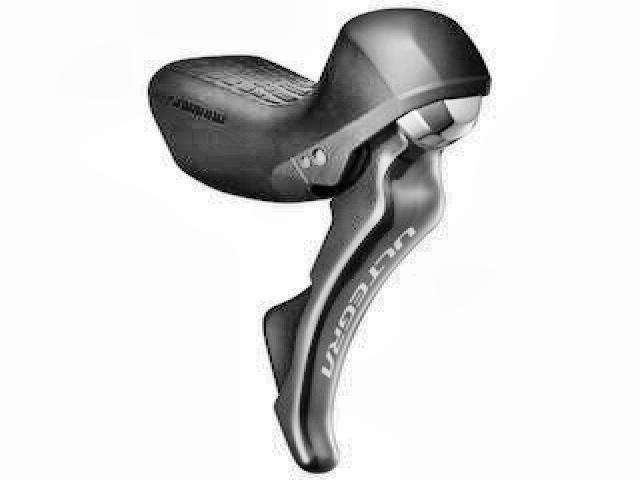sti_shifter: (141, 8, 493, 472)
